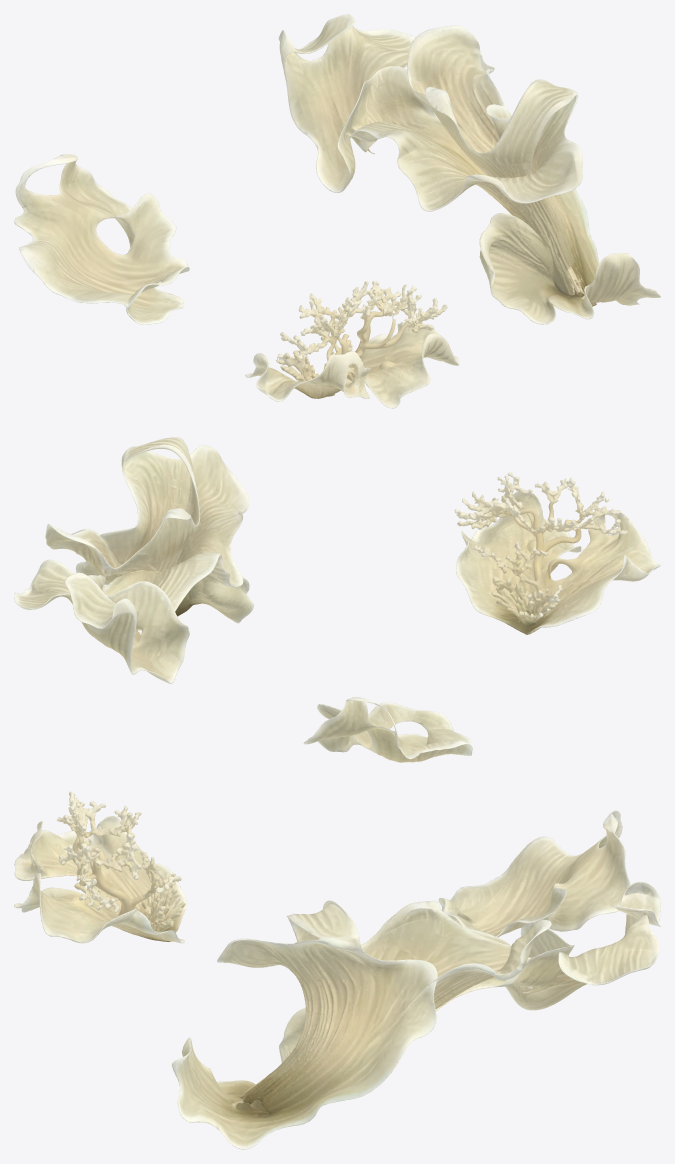
Rendered from liscie-opt.glb.
3 renders of one model, top to bottom at view 1: azimuth 30°, elevation 25°; view 2: azimuth 150°, elevation 25°; view 3: azimuth 270°, elevation 25°, orthographic. The views are drawn at different scales.
Bounding box in the file's own units: 1.73 × 0.6988 × 1.9.
Materials: 1 (1 with a texture image).
